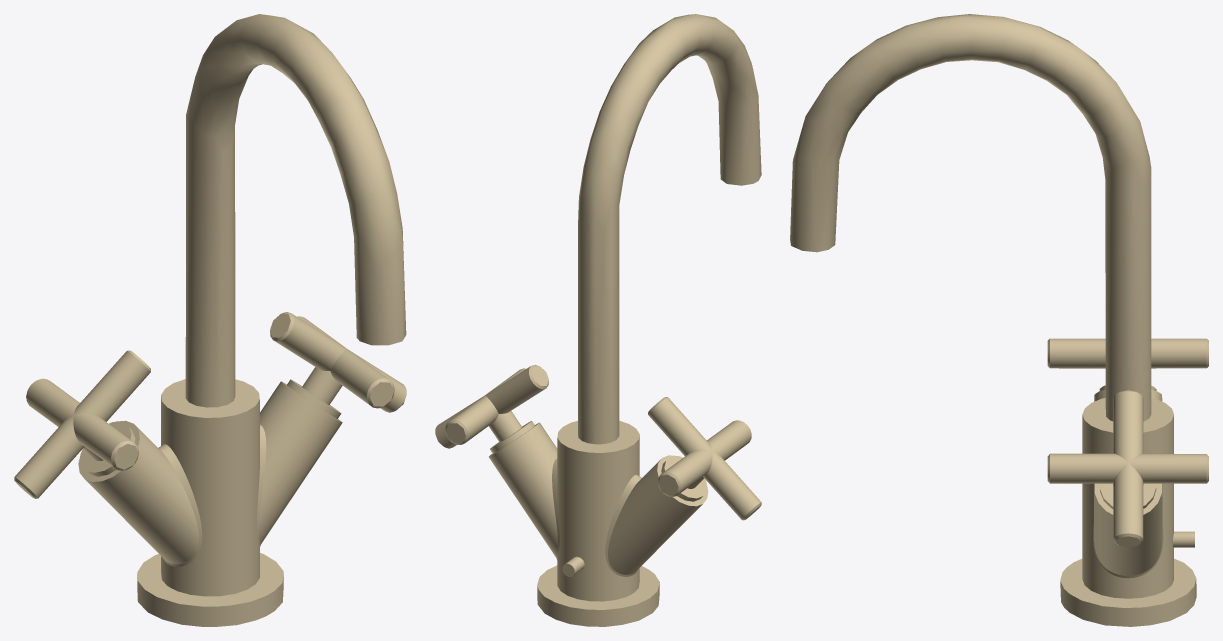
3 renders of one model, left to right at view 1: azimuth 30°, elevation 25°; view 2: azimuth 150°, elevation 25°; view 3: azimuth 270°, elevation 25°, orthographic. The views are drawn at different scales.
Visible parts, largest first — view 1: L_94b5b9f5_0670_40c8_80ed_b8aa51c8f340_I3, L_d3dcbb2b_4c44_437a_949d_012641e3e39b_I7, L_371058ef_0f02_43a9_b4b8_7bc3ba85c9c8_I1, L_aebabbb1_322c_48e3_8798_877ce0681c3e_I4, L_d9a1821b_6350_4af8_81e9_f33a4fe3cdb1_I8, L_b1cc2468_1b43_49ec_a76c_5935a66f385f_I6; view 2: L_94b5b9f5_0670_40c8_80ed_b8aa51c8f340_I3, L_d3dcbb2b_4c44_437a_949d_012641e3e39b_I7, L_371058ef_0f02_43a9_b4b8_7bc3ba85c9c8_I1, L_aebabbb1_322c_48e3_8798_877ce0681c3e_I4, L_d9a1821b_6350_4af8_81e9_f33a4fe3cdb1_I8, L_b1cc2468_1b43_49ec_a76c_5935a66f385f_I6; view 3: L_94b5b9f5_0670_40c8_80ed_b8aa51c8f340_I3, L_d3dcbb2b_4c44_437a_949d_012641e3e39b_I7, L_aebabbb1_322c_48e3_8798_877ce0681c3e_I4, L_d9a1821b_6350_4af8_81e9_f33a4fe3cdb1_I8, L_371058ef_0f02_43a9_b4b8_7bc3ba85c9c8_I1.
Part boxes in pixels (left/top/right/bottom): L_94b5b9f5_0670_40c8_80ed_b8aa51c8f340_I3: left=185, top=14, right=406, bottom=407; L_d3dcbb2b_4c44_437a_949d_012641e3e39b_I7: left=78, top=379, right=342, bottom=596; L_371058ef_0f02_43a9_b4b8_7bc3ba85c9c8_I1: left=14, top=350, right=150, bottom=498; L_aebabbb1_322c_48e3_8798_877ce0681c3e_I4: left=270, top=312, right=406, bottom=412; L_d9a1821b_6350_4af8_81e9_f33a4fe3cdb1_I8: left=137, top=553, right=283, bottom=626; L_b1cc2468_1b43_49ec_a76c_5935a66f385f_I6: left=80, top=422, right=135, bottom=476; L_94b5b9f5_0670_40c8_80ed_b8aa51c8f340_I3: left=578, top=14, right=761, bottom=444; L_d3dcbb2b_4c44_437a_949d_012641e3e39b_I7: left=489, top=420, right=708, bottom=601; L_371058ef_0f02_43a9_b4b8_7bc3ba85c9c8_I1: left=648, top=397, right=761, bottom=520; L_aebabbb1_322c_48e3_8798_877ce0681c3e_I4: left=435, top=364, right=548, bottom=448; L_d9a1821b_6350_4af8_81e9_f33a4fe3cdb1_I8: left=537, top=565, right=659, bottom=626; L_b1cc2468_1b43_49ec_a76c_5935a66f385f_I6: left=661, top=456, right=706, bottom=501; L_94b5b9f5_0670_40c8_80ed_b8aa51c8f340_I3: left=790, top=14, right=1151, bottom=421; L_d3dcbb2b_4c44_437a_949d_012641e3e39b_I7: left=1082, top=389, right=1173, bottom=598; L_aebabbb1_322c_48e3_8798_877ce0681c3e_I4: left=1047, top=390, right=1208, bottom=547; L_d9a1821b_6350_4af8_81e9_f33a4fe3cdb1_I8: left=1060, top=558, right=1196, bottom=626; L_371058ef_0f02_43a9_b4b8_7bc3ba85c9c8_I1: left=1047, top=338, right=1208, bottom=368.
Bounding box in the file's own units: 0.1794 × 0.2788 × 0.1819.
